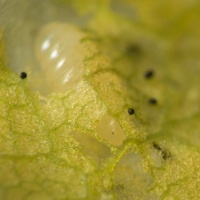insect: (28, 23, 81, 95)
